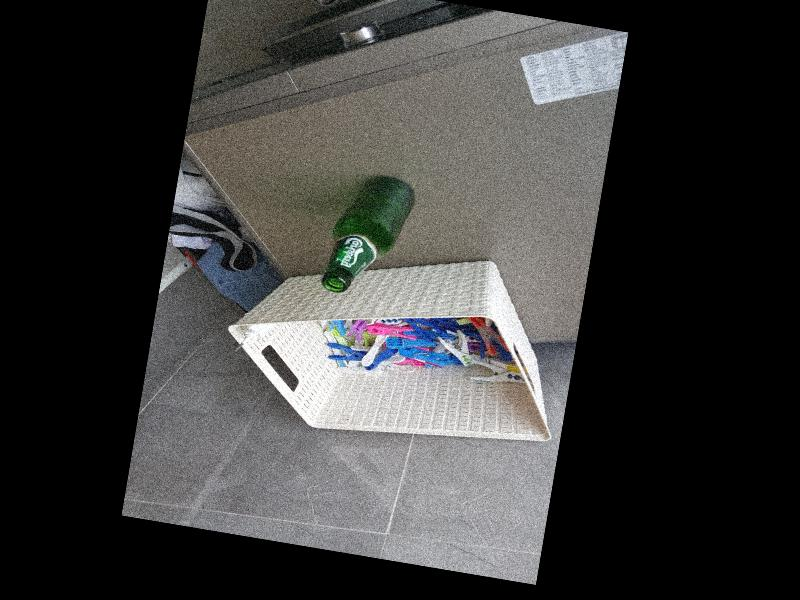Beer: (320, 168, 418, 303)
